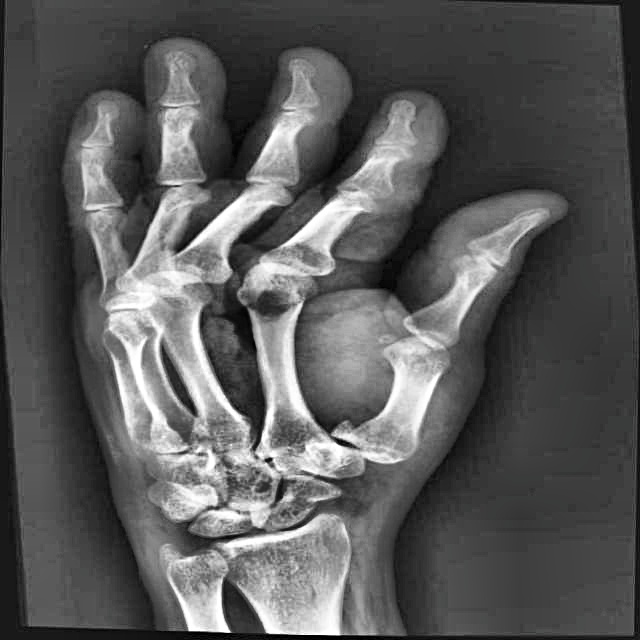Oblique Displaced: (127, 186, 208, 273)
